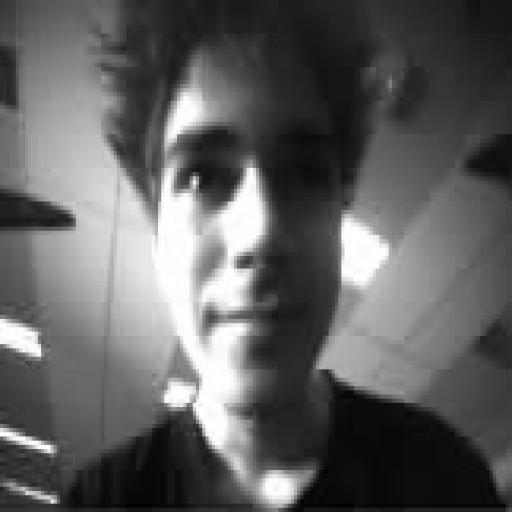human: (64, 0, 502, 511)
